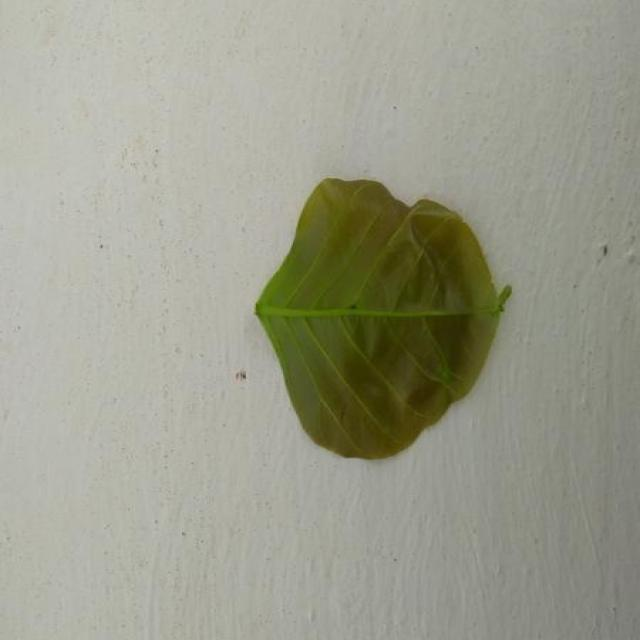honge: (255, 179, 510, 458)
leaf rust: (325, 200, 502, 448)
